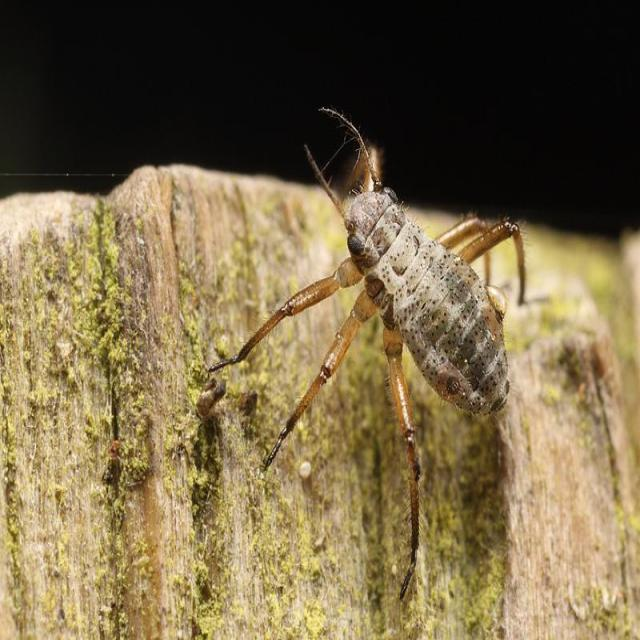Aphids: (219, 107, 550, 598)
